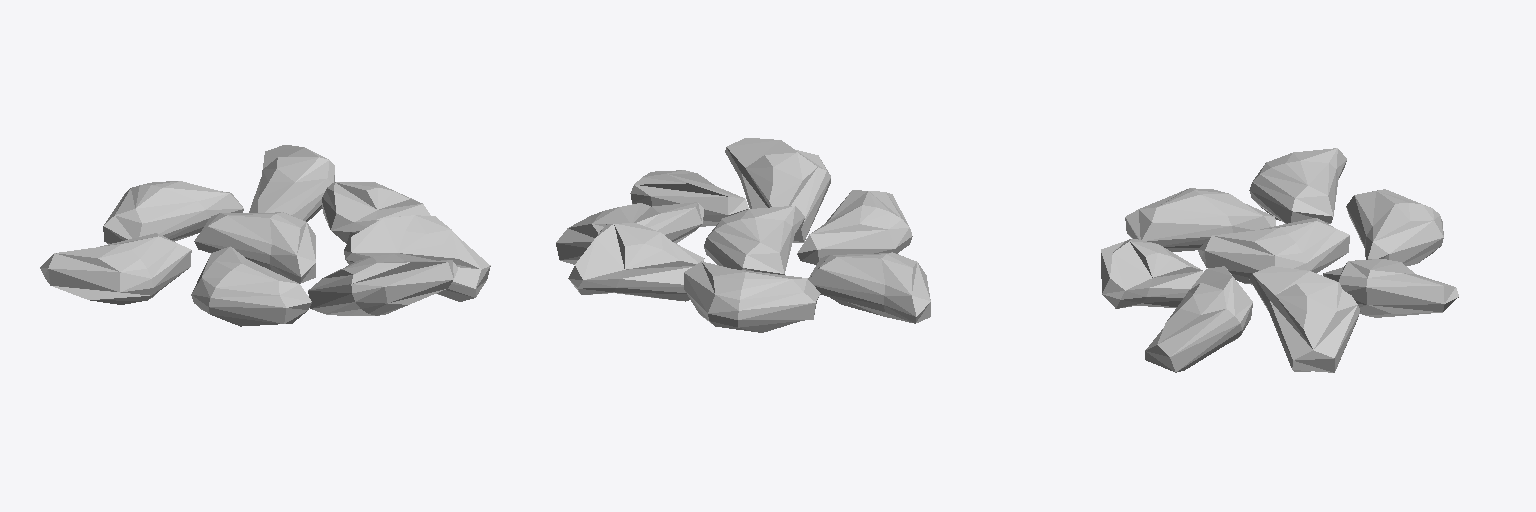
The model's file is blackBeans.obj.
The picture shows the model from 3 angles: view 1: azimuth 30°, elevation 25°; view 2: azimuth 150°, elevation 25°; view 3: azimuth 270°, elevation 25°; orthographic projection.
Visible parts, largest first — view 1: pSphere9; view 2: pSphere9; view 3: pSphere9.
Part boxes in pixels (bbox=[...]): pSphere9: bbox=[40, 145, 490, 326]; pSphere9: bbox=[556, 138, 930, 332]; pSphere9: bbox=[1101, 148, 1458, 372].
Size of the model in its own units: 0.5094 by 0.1026 by 0.4272.